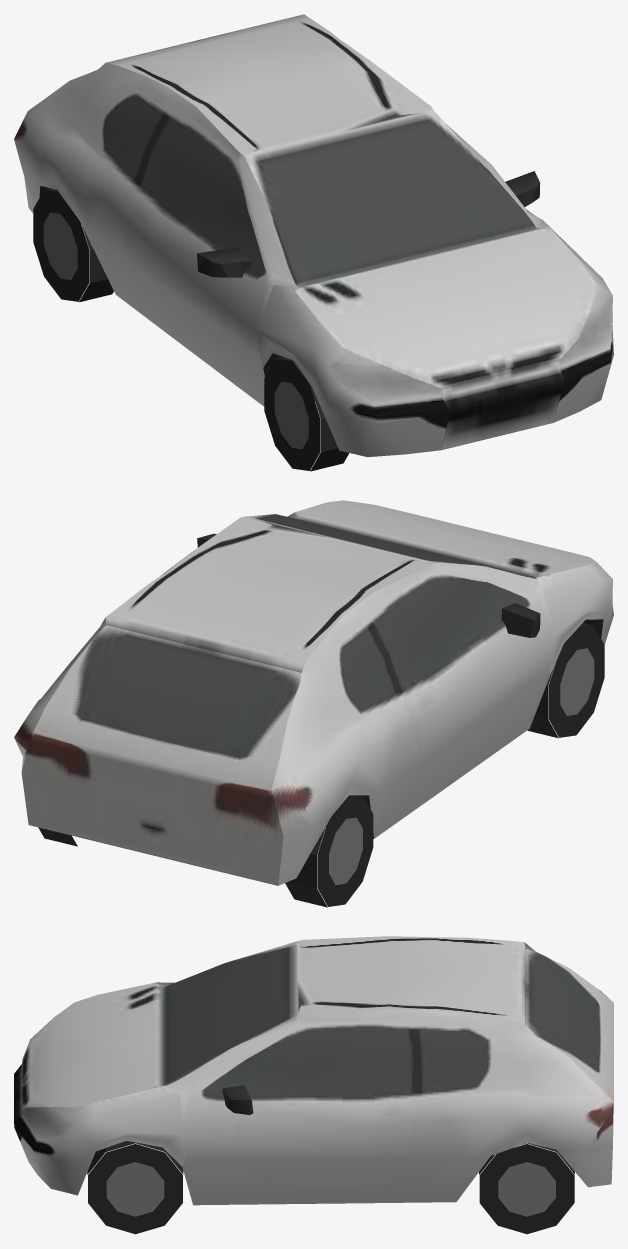
Rendered from hatch.glb.
3 renders of one model, top to bottom at view 1: azimuth 30°, elevation 25°; view 2: azimuth 150°, elevation 25°; view 3: azimuth 270°, elevation 25°, orthographic. The views are drawn at different scales.
Parts seen in each view (by area): view 1: body, trim; view 2: body, trim; view 3: body, trim.
Boxes of the visible parts, bbox=[...] form: body: bbox=[14, 14, 613, 457]; trim: bbox=[33, 171, 540, 471]; body: bbox=[14, 500, 613, 885]; trim: bbox=[38, 533, 604, 907]; body: bbox=[14, 936, 613, 1205]; trim: bbox=[87, 1085, 574, 1234].
Size of the model in its own units: 2.15 by 1.46 by 3.9.
2 materials, 1 textured.
